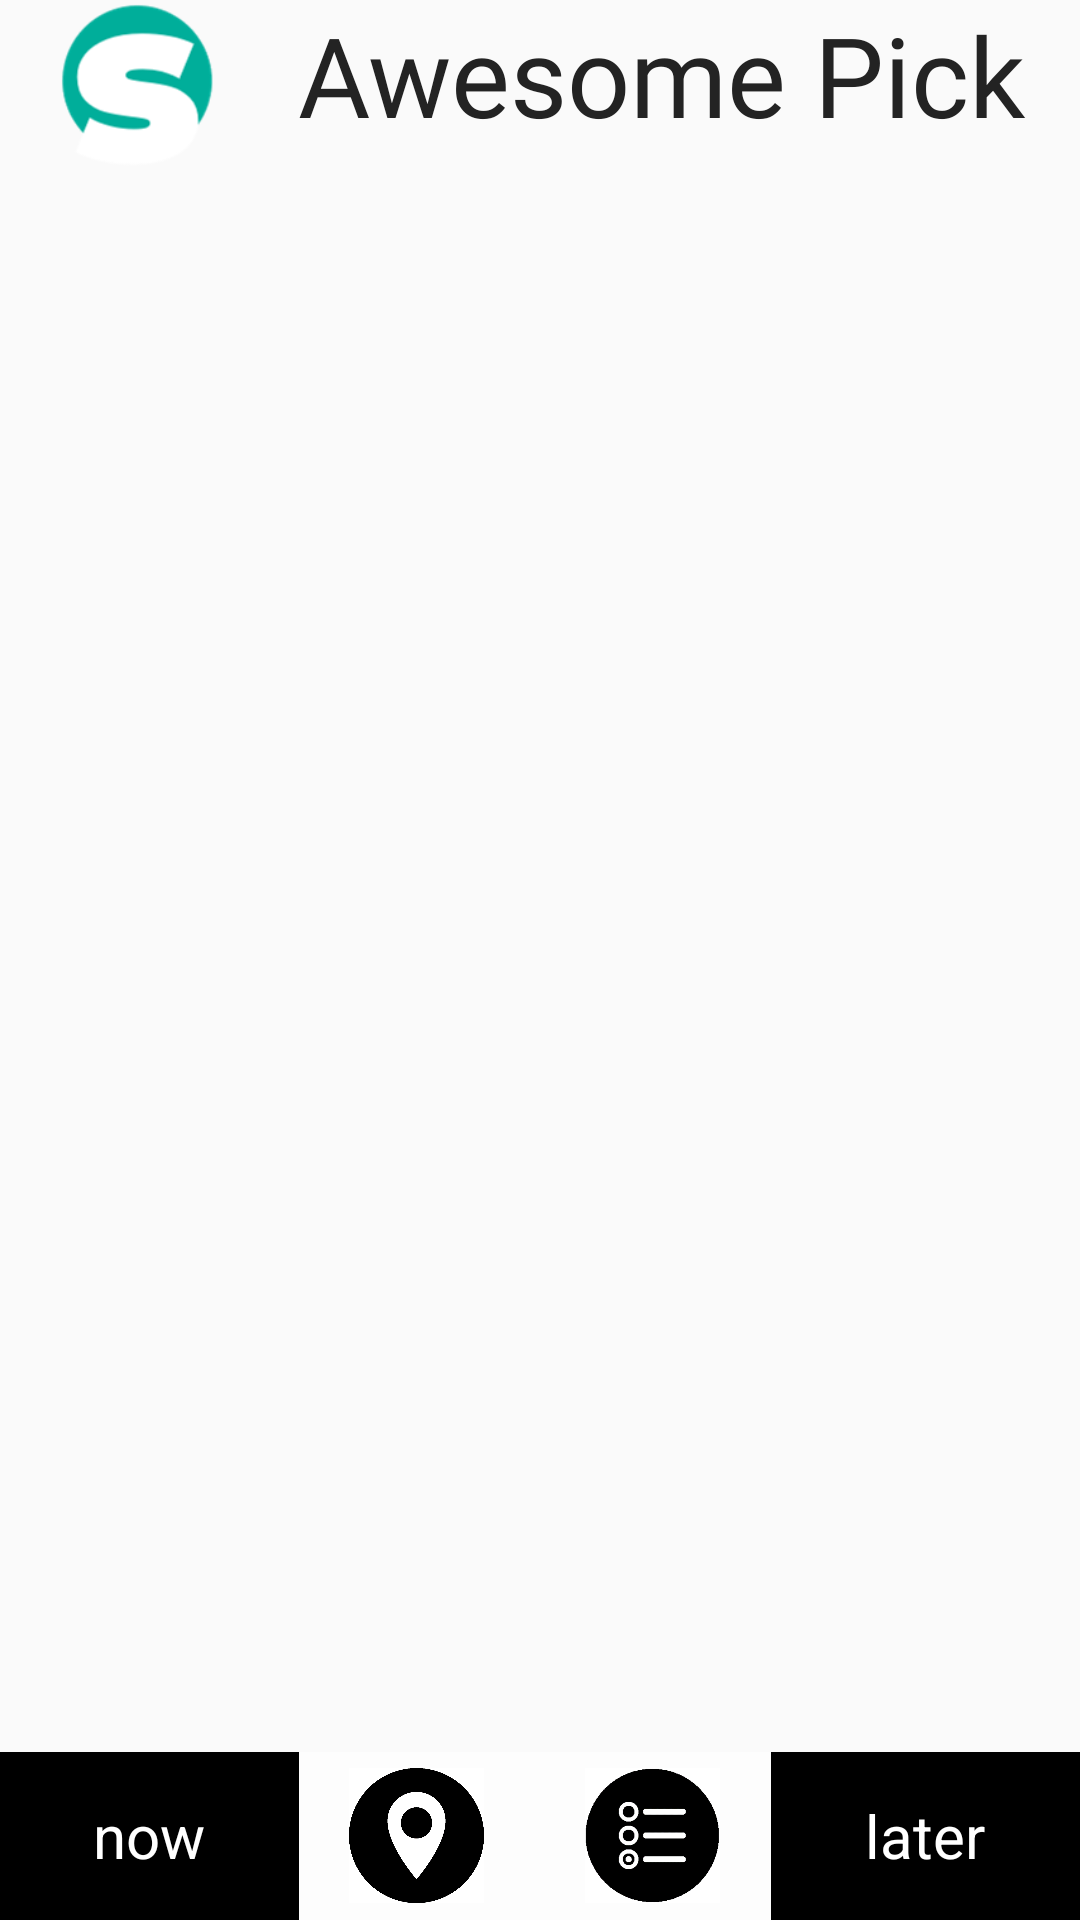

Icons on this 1080 × 1920 Android screen, each with the point to tap as point (x, y):
list: point (652, 1835)
map: point (416, 1835)
